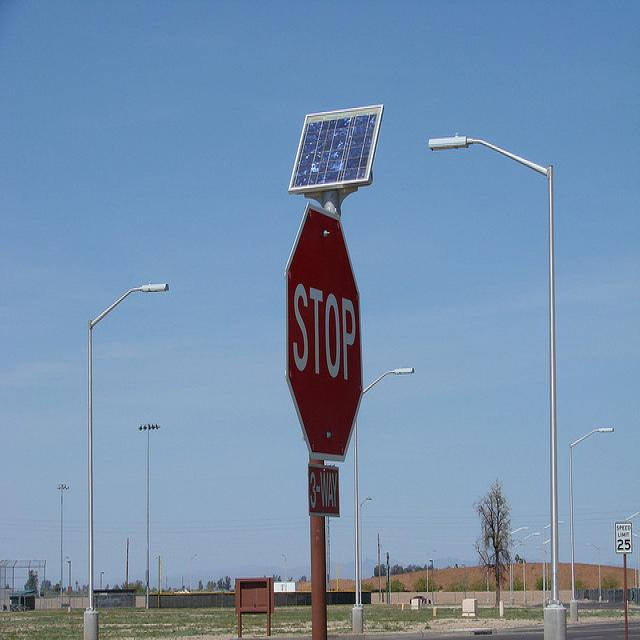Vehicle: (409, 595, 434, 606)
